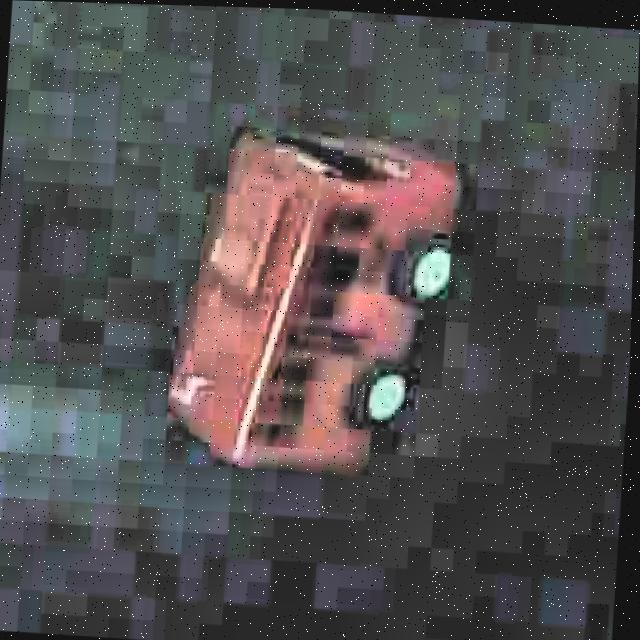bus: (150, 114, 477, 482)
